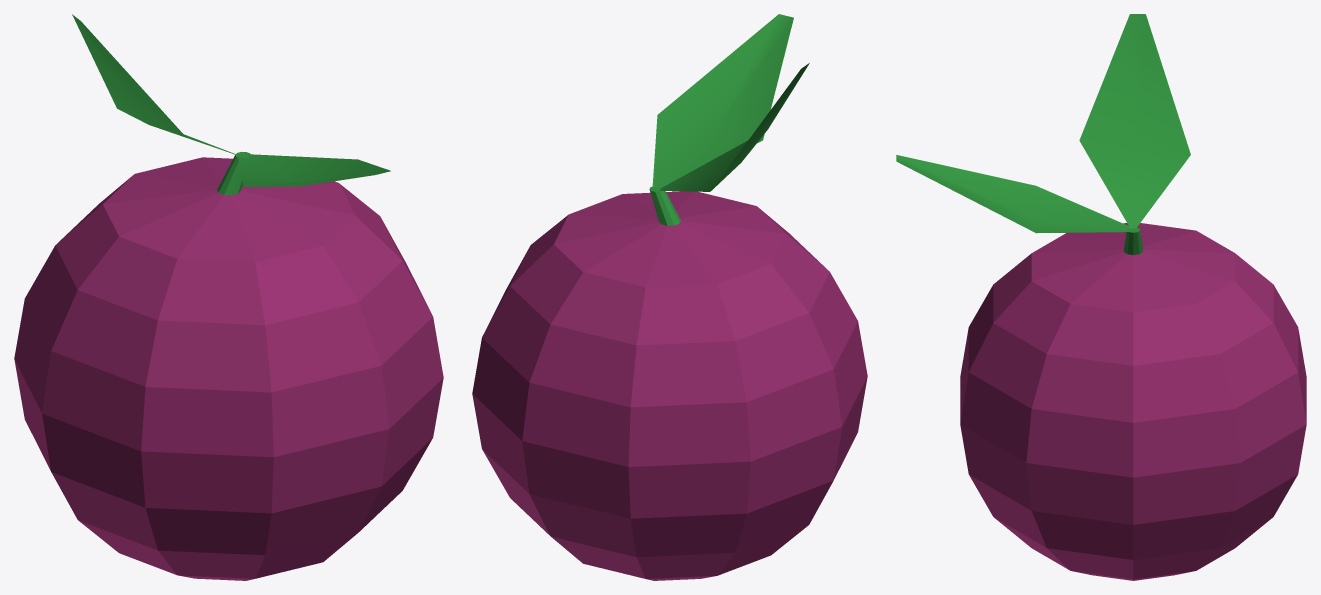
File: Orange.FBX
The picture shows the model from 3 angles, left to right: view 1: azimuth 30°, elevation 25°; view 2: azimuth 150°, elevation 25°; view 3: azimuth 270°, elevation 25°; orthographic projection. The views are drawn at different scales.
Visible parts, largest first — view 1: pSphere1, pPlane1, pPlane2; view 2: pSphere1, pPlane1, pPlane2; view 3: pSphere1, pPlane2, pPlane1.
Boxes of the visible parts, x1=… form: pSphere1: x1=14, y1=152, x2=443, y2=580; pPlane1: x1=238, y1=154, x2=390, y2=186; pPlane2: x1=72, y1=14, x2=238, y2=155; pSphere1: x1=472, y1=186, x2=867, y2=580; pPlane1: x1=652, y1=14, x2=793, y2=187; pPlane2: x1=659, y1=63, x2=809, y2=191; pSphere1: x1=960, y1=223, x2=1306, y2=580; pPlane2: x1=1079, y1=14, x2=1190, y2=228; pPlane1: x1=896, y1=155, x2=1131, y2=233.
Size of the model in its own units: 2.5 by 3.61 by 2.82.
